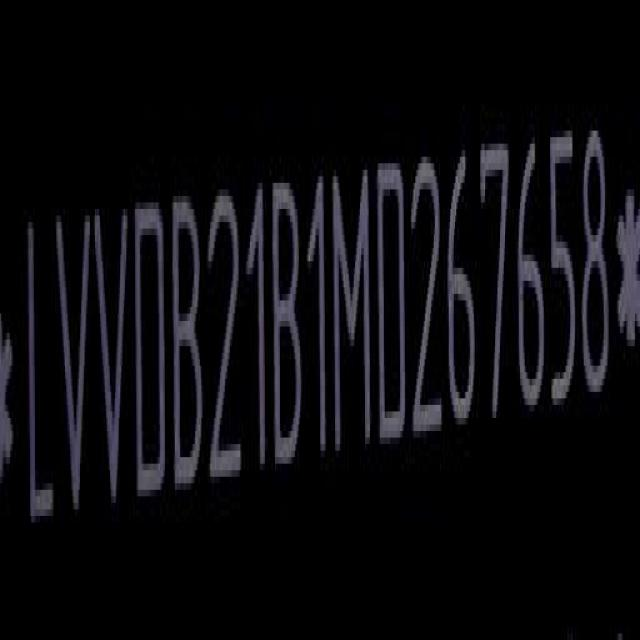1: (307, 169, 329, 471), (250, 183, 270, 487)
2: (210, 190, 243, 498), (414, 156, 444, 448)
5: (550, 122, 577, 407)
6: (446, 135, 476, 416), (517, 130, 546, 418)
7: (482, 131, 511, 425)
8: (583, 130, 613, 395)
B: (174, 193, 207, 502), (274, 178, 303, 479)
D: (132, 194, 166, 510), (379, 154, 411, 456)
L: (24, 214, 54, 540)
M: (334, 165, 372, 462)
V: (54, 210, 91, 529), (95, 203, 131, 523)
